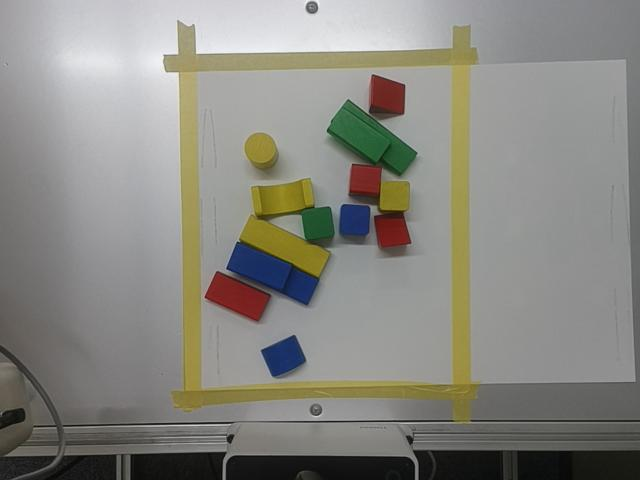blue_cube: (341, 204, 371, 235)
blue_rect: (228, 242, 292, 291)
cylinder: (245, 132, 278, 169)
green_cube: (302, 207, 334, 241)
green_rect: (328, 109, 390, 163)
half_cylinder: (262, 335, 306, 377)
red_cube: (350, 164, 382, 196)
red_rect: (206, 272, 270, 321)
triangle: (370, 74, 405, 117), (375, 213, 411, 248)
yellow_archrect: (253, 178, 314, 217)
yellow_cube: (379, 181, 410, 211)
yellow_longrect: (240, 215, 330, 277)
